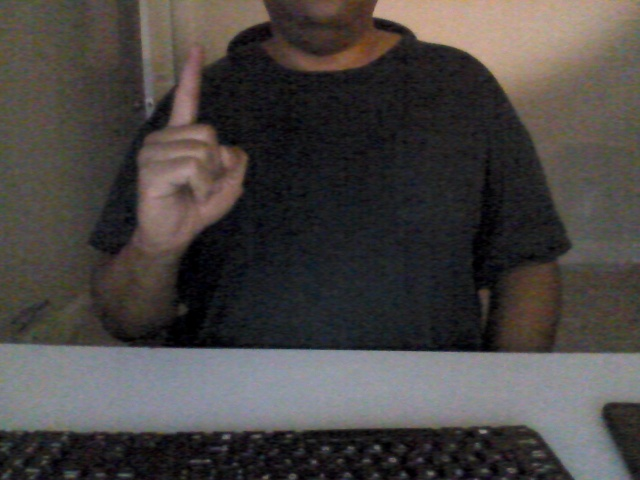up: (134, 37, 248, 253)
